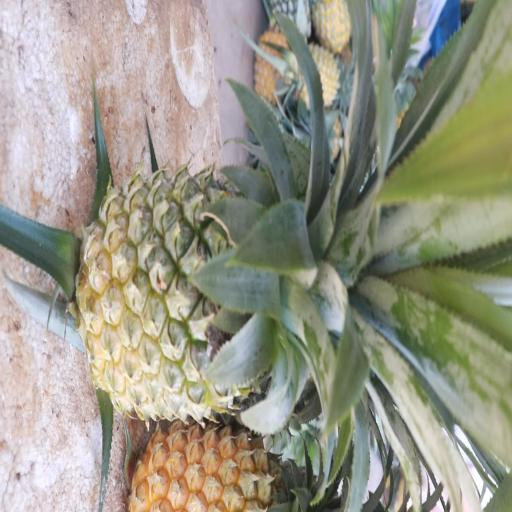------------------------------: (86, 174, 345, 418)
Pineapple - v8 v1: (136, 409, 309, 512)
